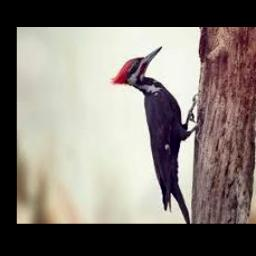Woodpecker: (112, 45, 199, 224)
